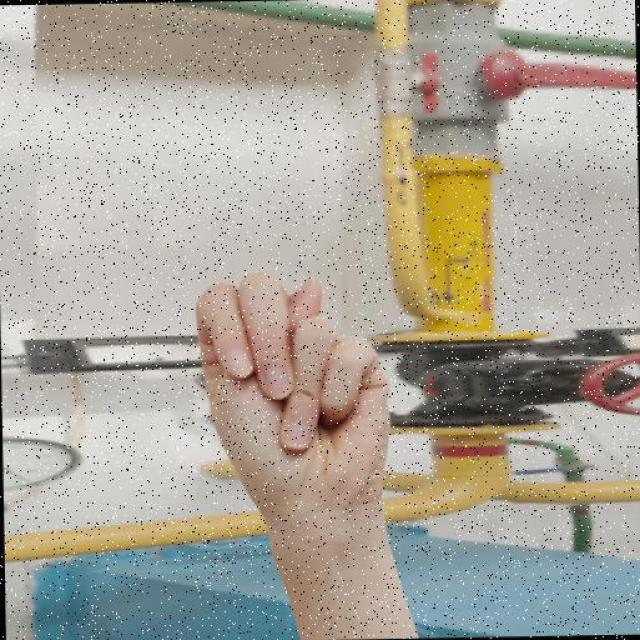N: (191, 264, 395, 528)
